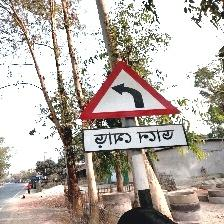Right-turn: (78, 61, 188, 155)
